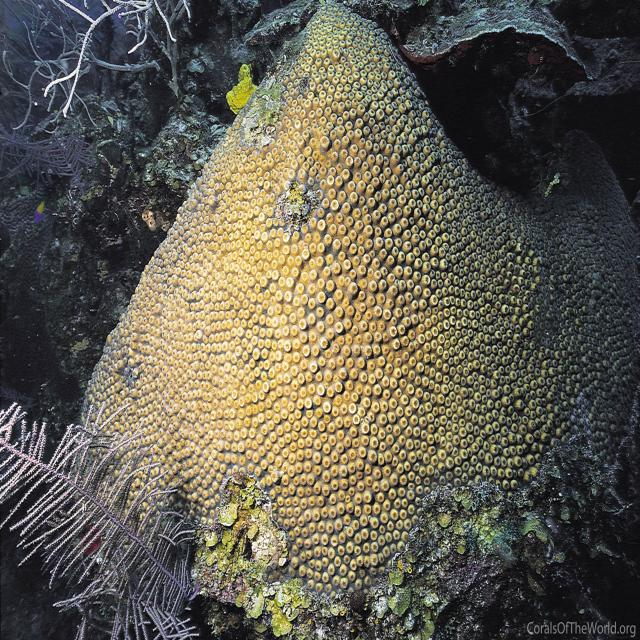Coral: (80, 3, 640, 596)
